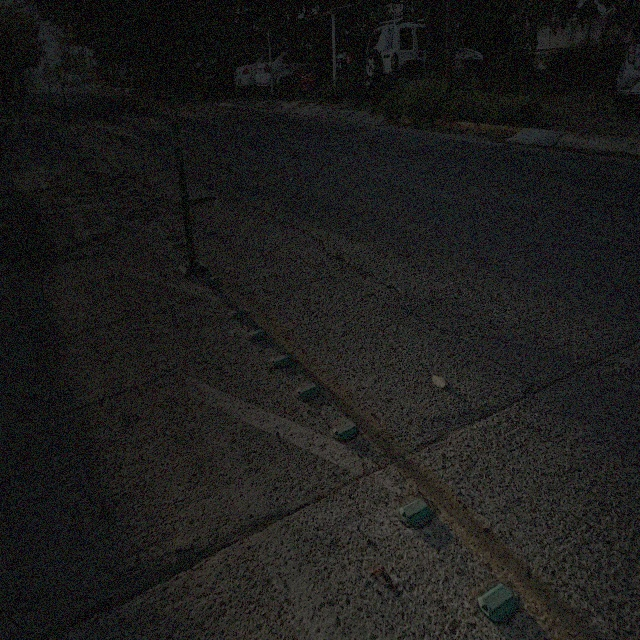pothole: (175, 197, 212, 208)
